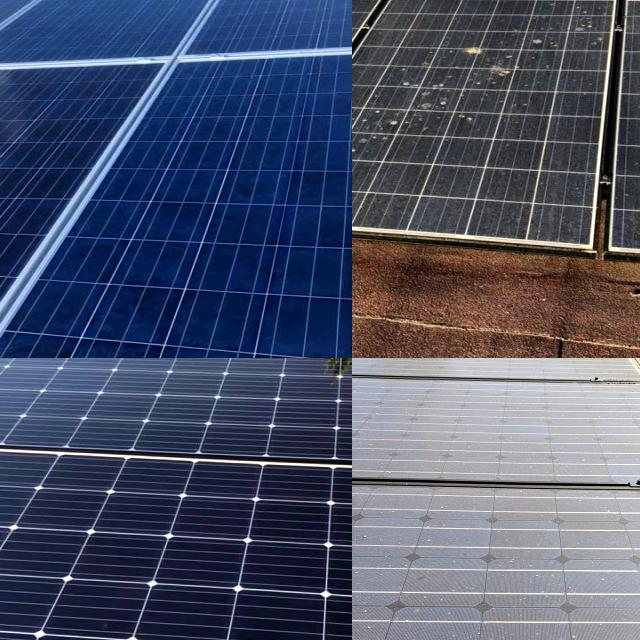crack: (0, 36, 352, 358), (0, 428, 352, 640), (0, 358, 352, 488), (0, 358, 352, 417)
dust: (456, 500, 640, 640), (352, 487, 451, 640), (352, 51, 465, 179), (394, 381, 557, 468), (491, 2, 606, 96), (569, 395, 640, 478), (352, 376, 411, 473), (352, 144, 400, 212), (352, 405, 375, 466)
